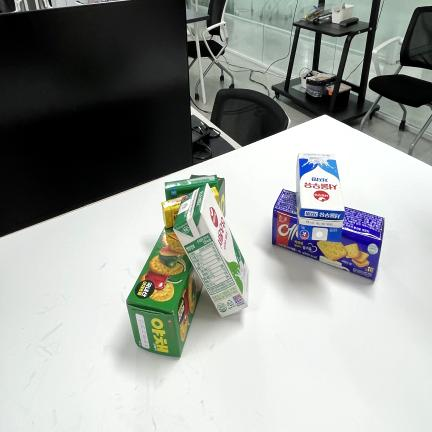cracker_vege: (126, 229, 203, 359)
gum_green: (165, 174, 218, 201)
gum_yellow: (161, 194, 189, 229)
milk_blue: (296, 153, 345, 242)
milk_green: (173, 184, 249, 317)
